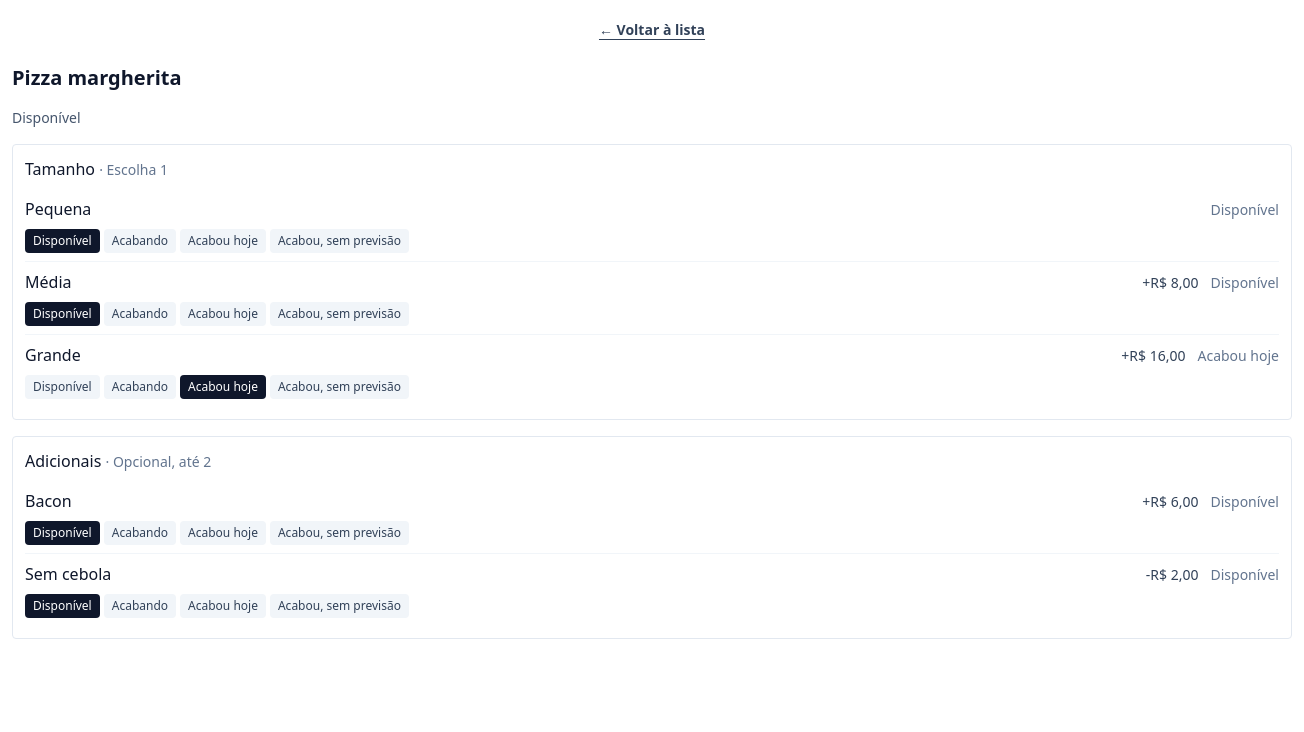
Test: ProdutoAberto › 6 · a recusa da marcação é a mesma Recusa da W-C › 403 não mostra o texto do servidor, e pede o painel
Expected: the heading "Pizza margherita" is shown, [12,64,182,92]
Click the button "Acabou hoje" below "Média" at (223, 314), box [180,302,266,326]
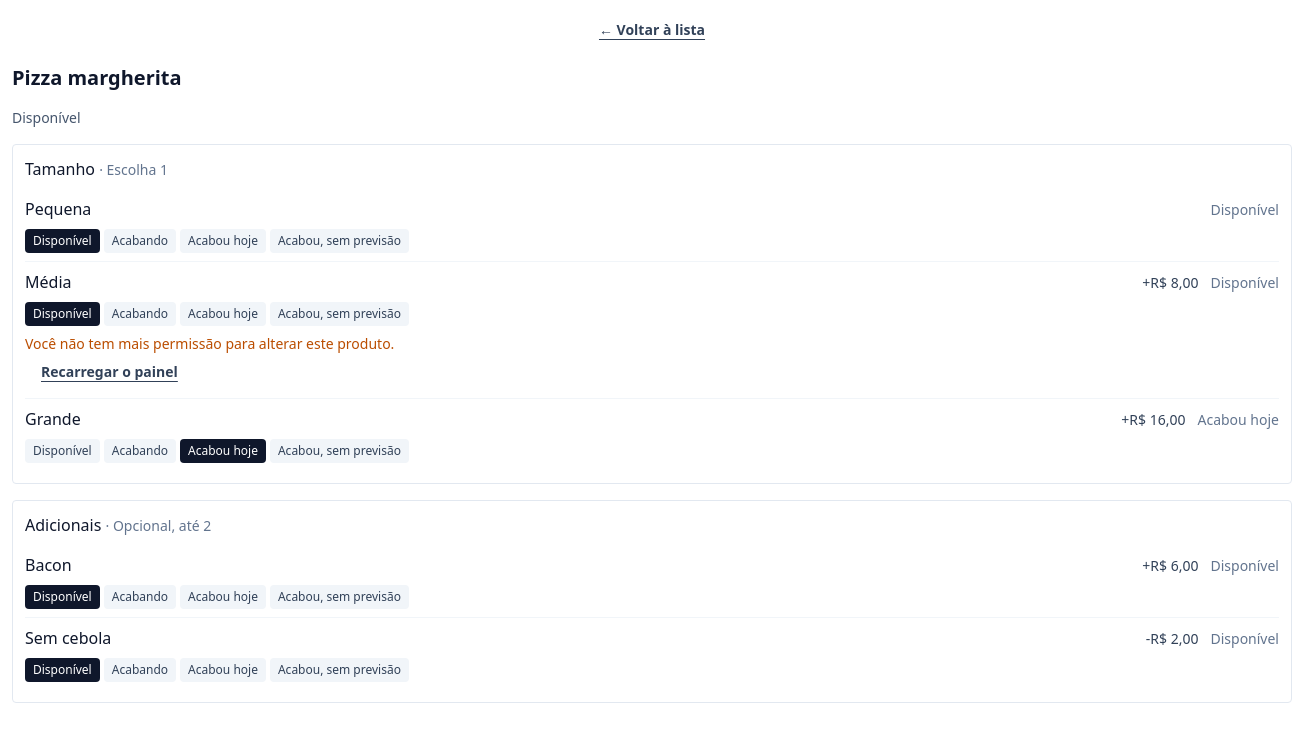
Expected: the message does not show "texto interno", [25,334,394,390]
Expected: the button "Recarregar o painel" is shown, [25,354,194,390]
